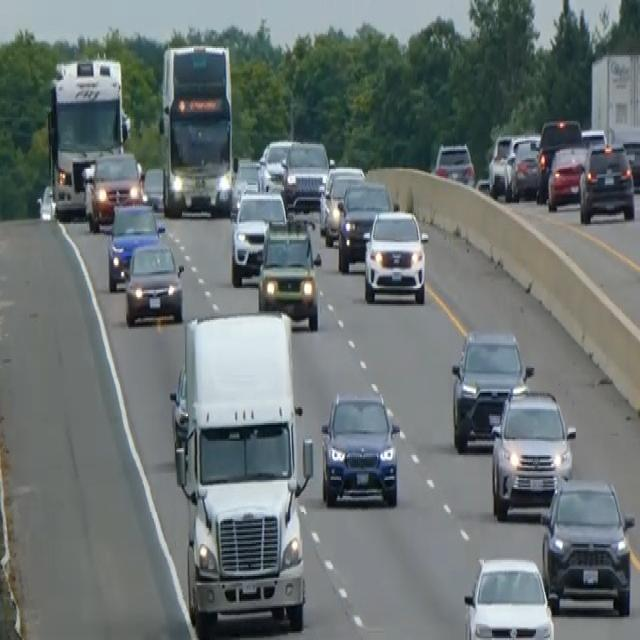bus: (158, 41, 234, 217)
car: (539, 475, 635, 617), (489, 384, 576, 519), (450, 326, 533, 452), (319, 389, 399, 508), (462, 553, 554, 638), (257, 215, 321, 329), (362, 206, 428, 304), (230, 187, 287, 286), (336, 178, 394, 272), (106, 199, 164, 292), (123, 238, 184, 326), (82, 149, 143, 231), (578, 139, 635, 224), (535, 115, 582, 201), (318, 164, 365, 245), (281, 137, 330, 210), (546, 142, 588, 210), (509, 135, 541, 199), (229, 154, 263, 212), (487, 132, 516, 198), (434, 139, 475, 185), (260, 137, 293, 192), (141, 163, 165, 210), (36, 182, 56, 220), (580, 125, 607, 151)
lorry: (168, 307, 314, 633)
